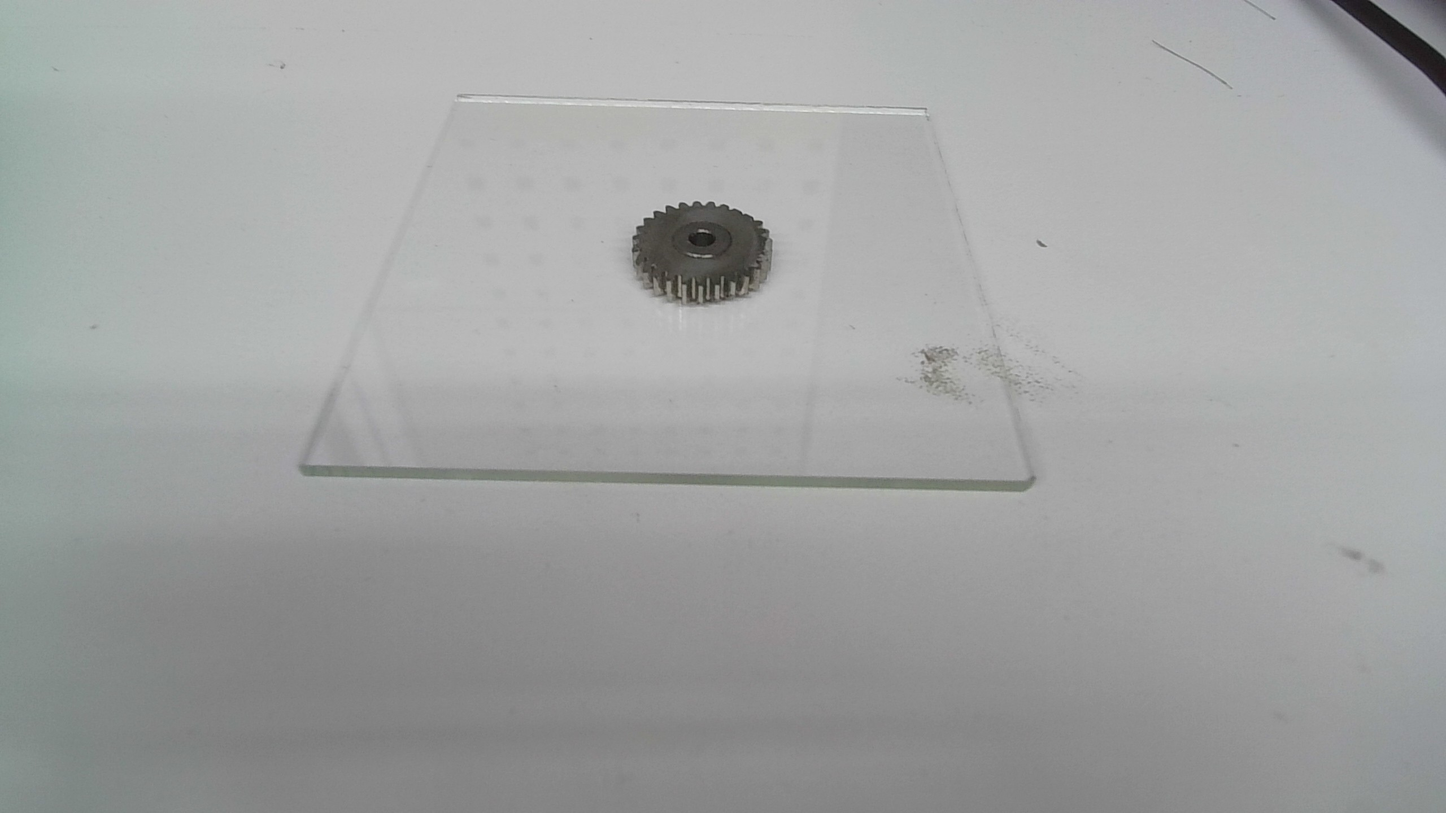gear: (629, 197, 776, 308)
